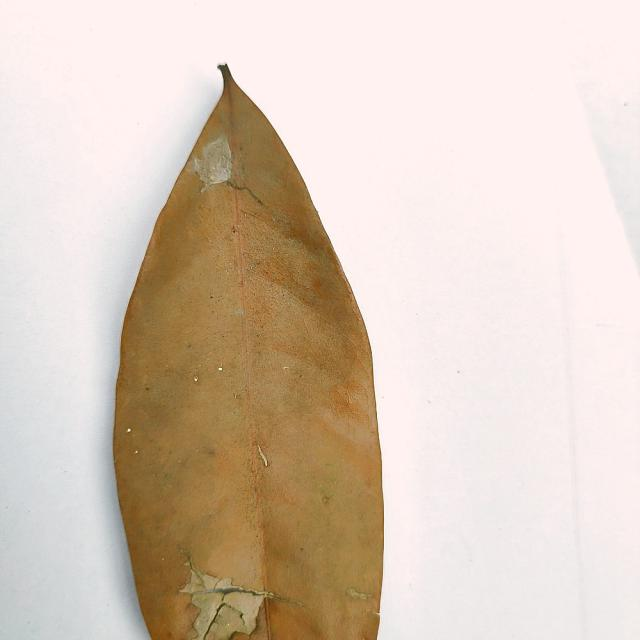Dry_Leaf-Lychee: (111, 64, 385, 639)
